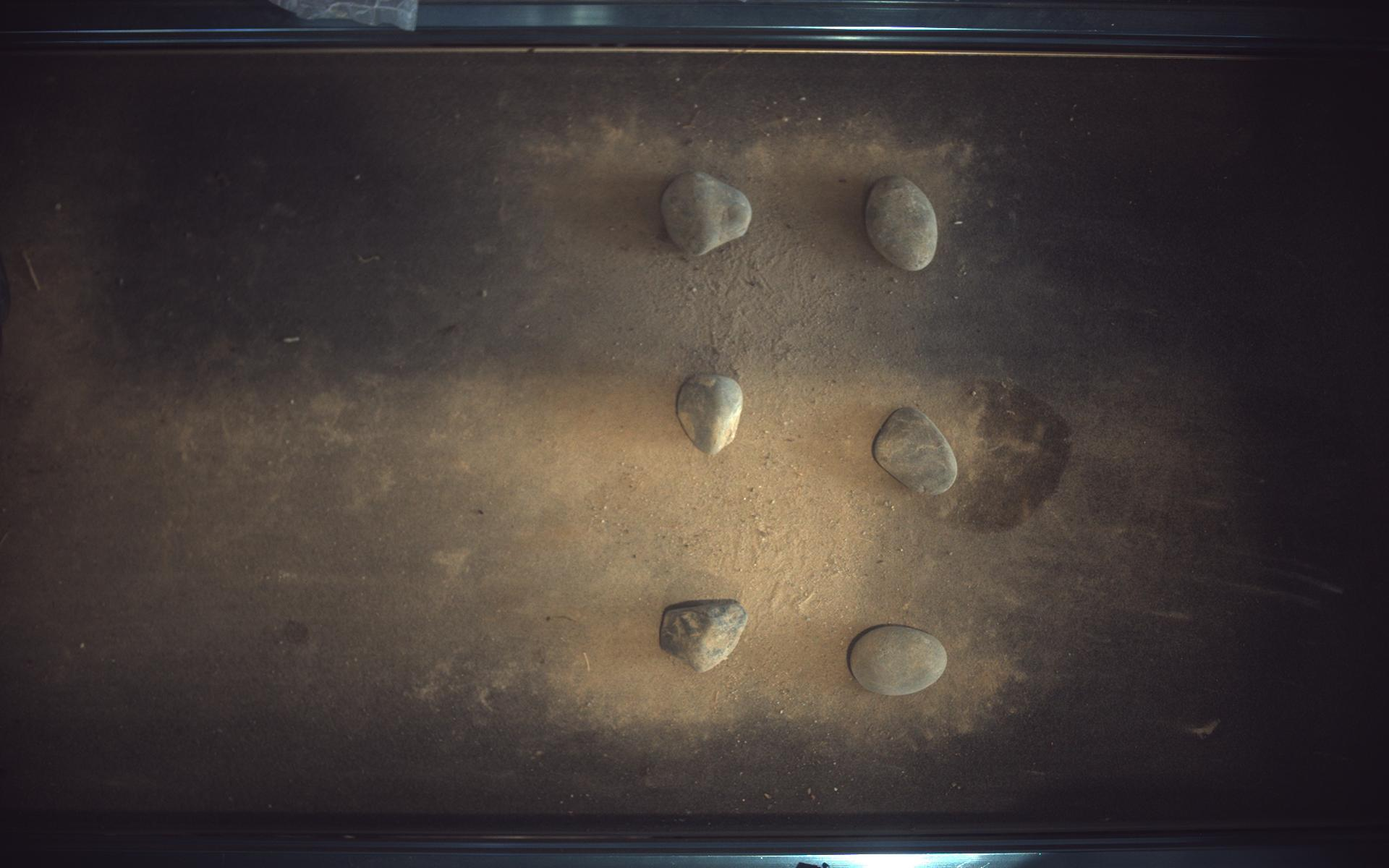stone: (662, 171, 753, 255), (875, 407, 960, 495), (850, 626, 949, 697), (867, 176, 940, 271), (660, 600, 749, 673), (678, 374, 744, 456)
